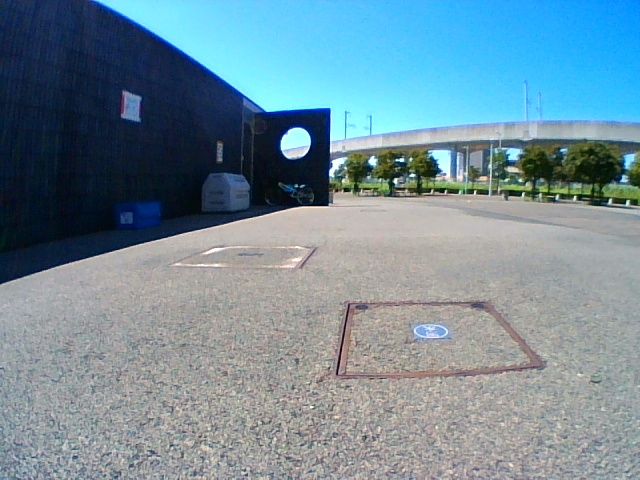blue_box: (117, 201, 159, 227)
tag: (119, 212, 133, 224)
